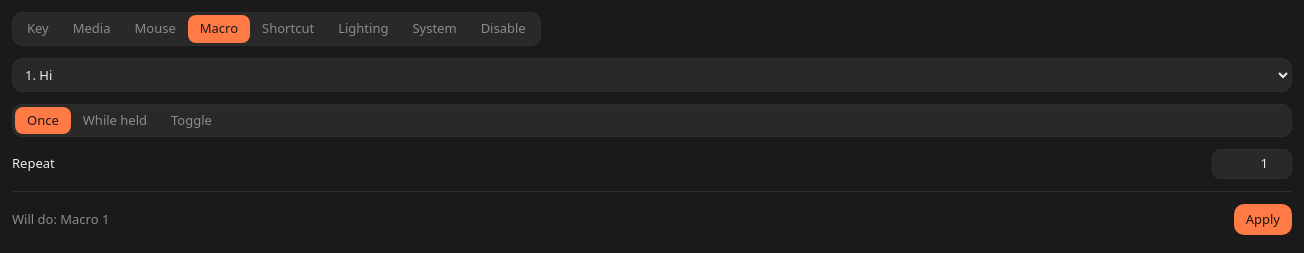
repeat count can be typed freely and is clamped on blur
Replace the text in the number field named "Repeat count" with "12": (1252, 164) [1212,149,1292,178]
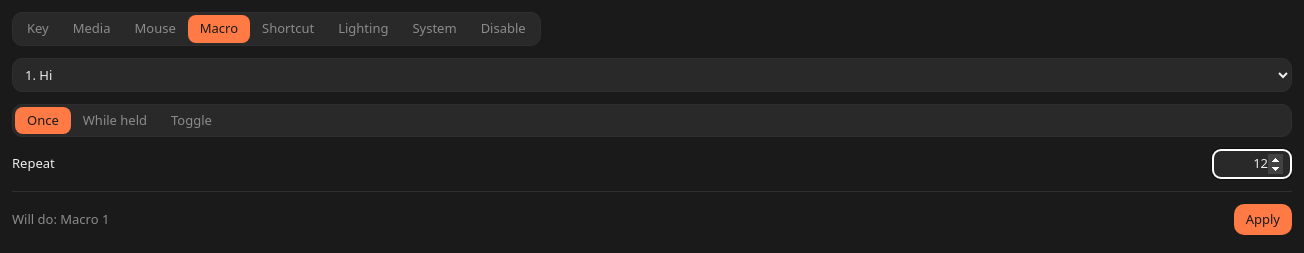
Click the button "Apply": (1263, 219) [1234,204,1292,235]
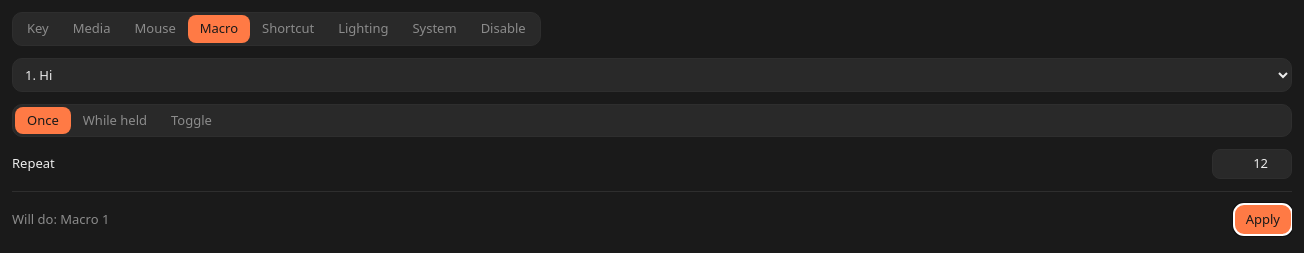
Replace the text in the number field named "Repeat count" with "900": (1252, 164) [1212,149,1292,178]
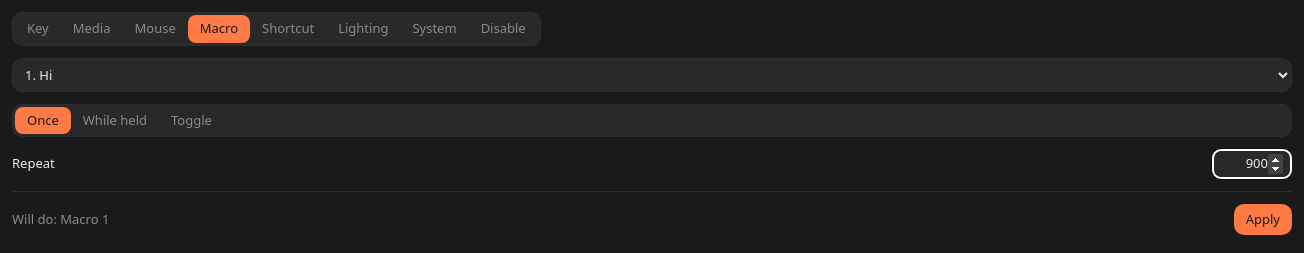
Press Tab
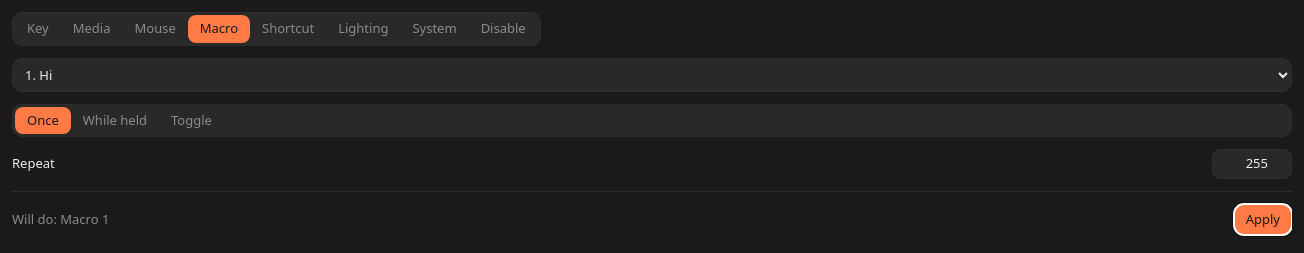
Now the number field named "Repeat count" holds "255", box [1212,149,1292,178]
